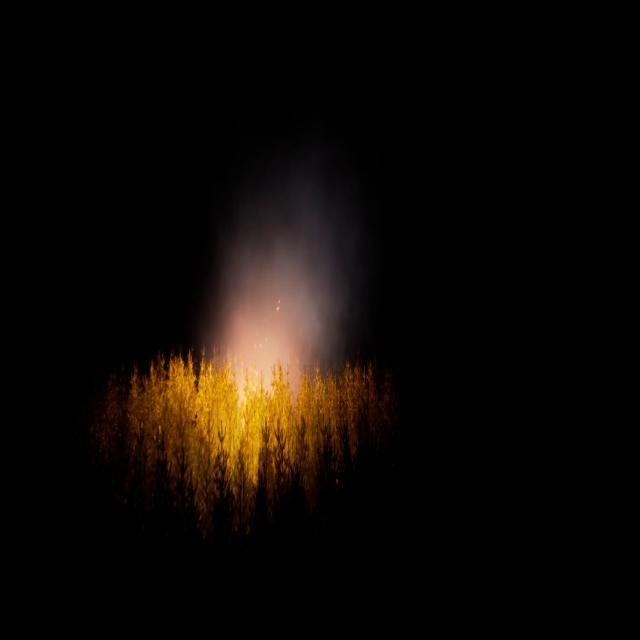smoke: (198, 180, 360, 393)
